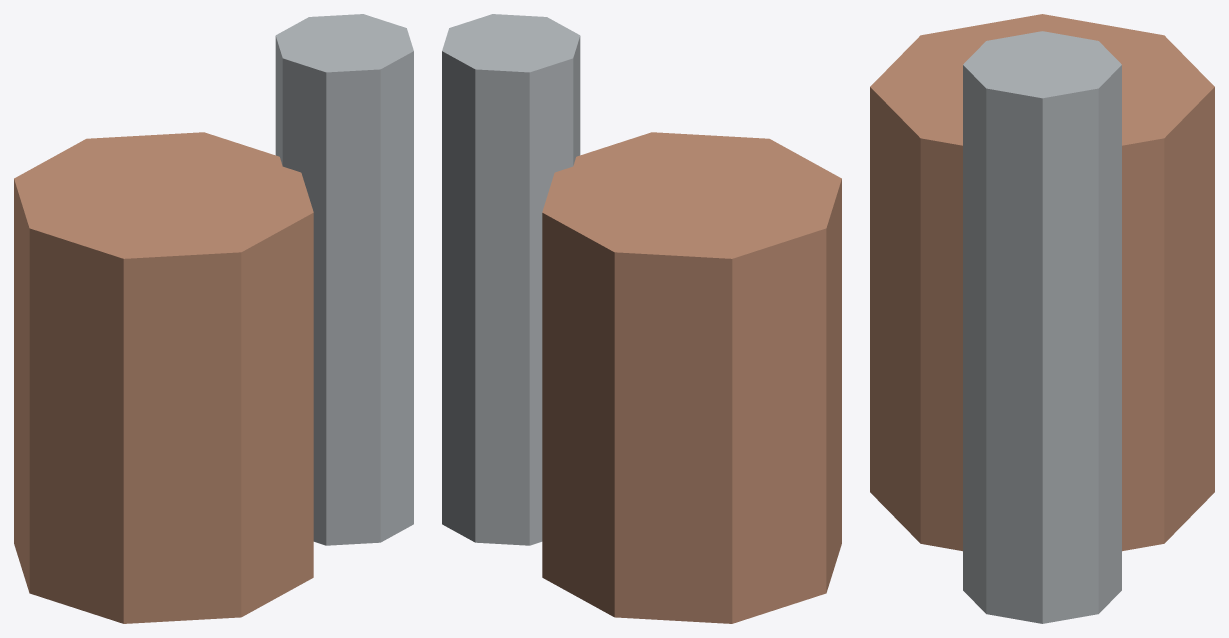
File: SM_OilRefinery.fbx
The picture shows the model from 3 angles, left to right: view 1: azimuth 30°, elevation 25°; view 2: azimuth 150°, elevation 25°; view 3: azimuth 270°, elevation 25°; orthographic projection. The views are drawn at different scales.
Parts seen in each view (by area): view 1: SM_OilRefinery; view 2: SM_OilRefinery; view 3: SM_OilRefinery.
Part boxes in pixels (box(x1,y1,x2,y2)): SM_OilRefinery: box(14, 14, 413, 623); SM_OilRefinery: box(442, 14, 841, 623); SM_OilRefinery: box(870, 14, 1214, 623).
Bounding box in the file's own units: 14600 × 10400 × 17500.
